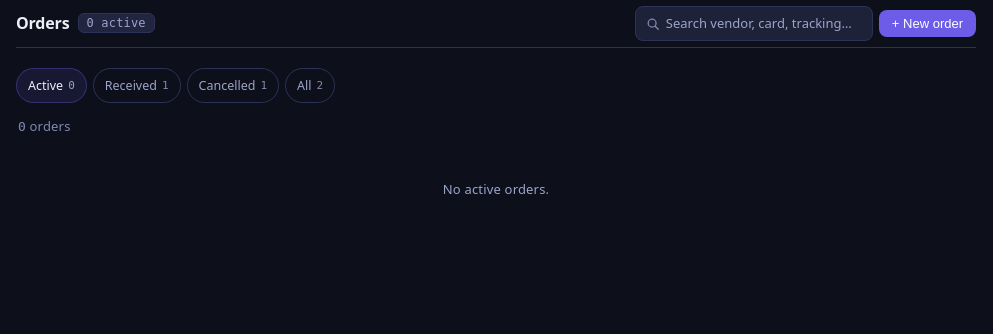
OrdersPage — ETA and card states › received and cancelled cards show their own labels and state classes
Click the button "All 2" at (310, 86), box [285,68,335,103]
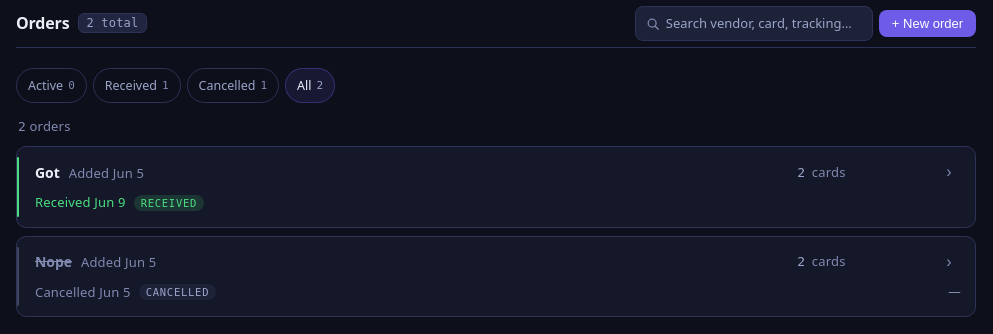
Expected: the text "Got" reads "Got Added Jun 5 2 cards › Received Jun 9 Received", [16,146,976,228]
Expected: the text "Nope" shows "Cancelled", [35,283,99,301]
